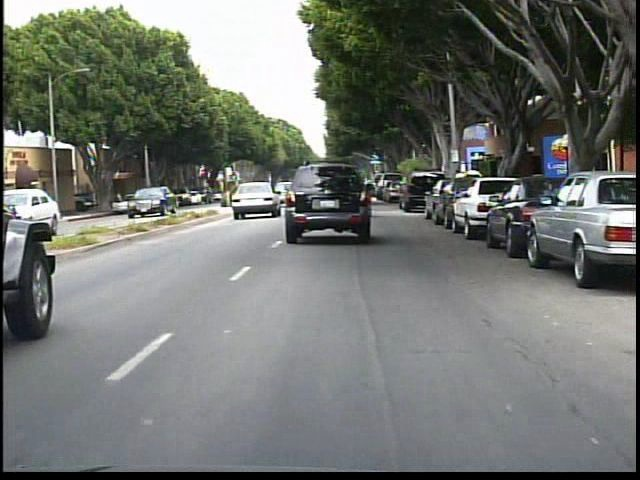person: (465, 166, 482, 205), (450, 167, 466, 203), (113, 188, 129, 212)
